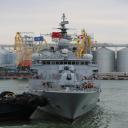Fragata: (25, 9, 105, 125)
